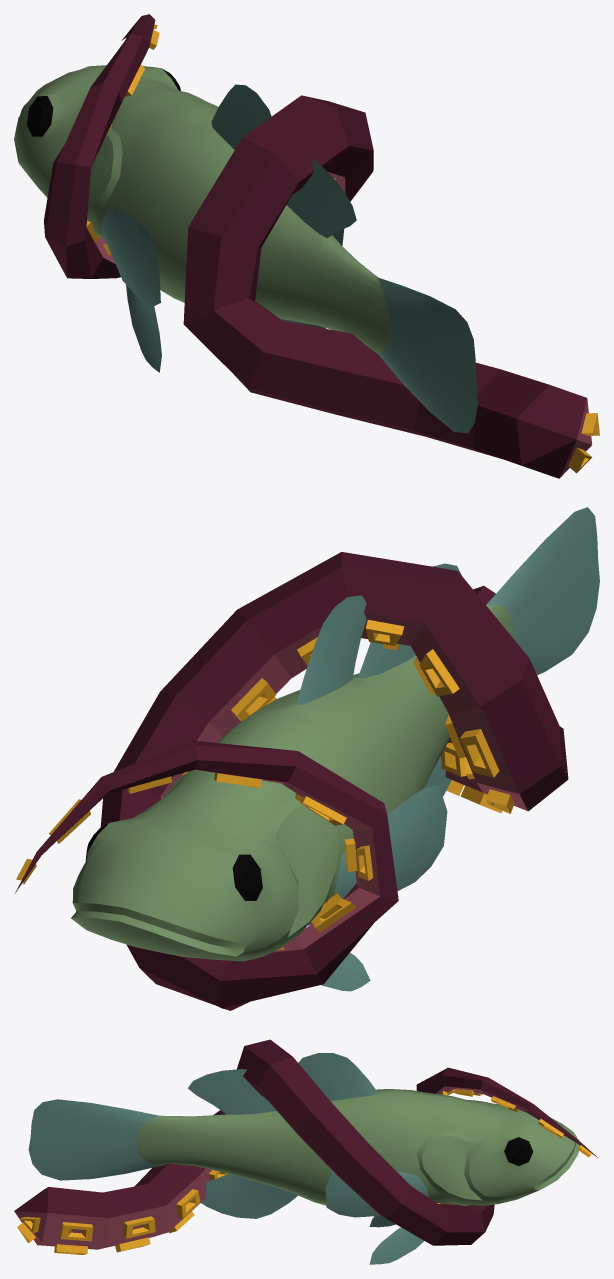
Rendered from Fish_UI.fbx.
3 renders of one model, top to bottom at view 1: azimuth 30°, elevation 25°; view 2: azimuth 150°, elevation 25°; view 3: azimuth 270°, elevation 25°, orthographic. The views are drawn at different scales.
Visible parts, largest first — view 1: Circle.002; view 2: Circle.002; view 3: Circle.002.
Boxes of the visible parts, x1,y1,x2,y2 form: Circle.002: (14,14,599,478); Circle.002: (15,507,599,1010); Circle.002: (14,1039,598,1264).
Size of the model in its own units: 1.68 by 1.72 by 4.65.
